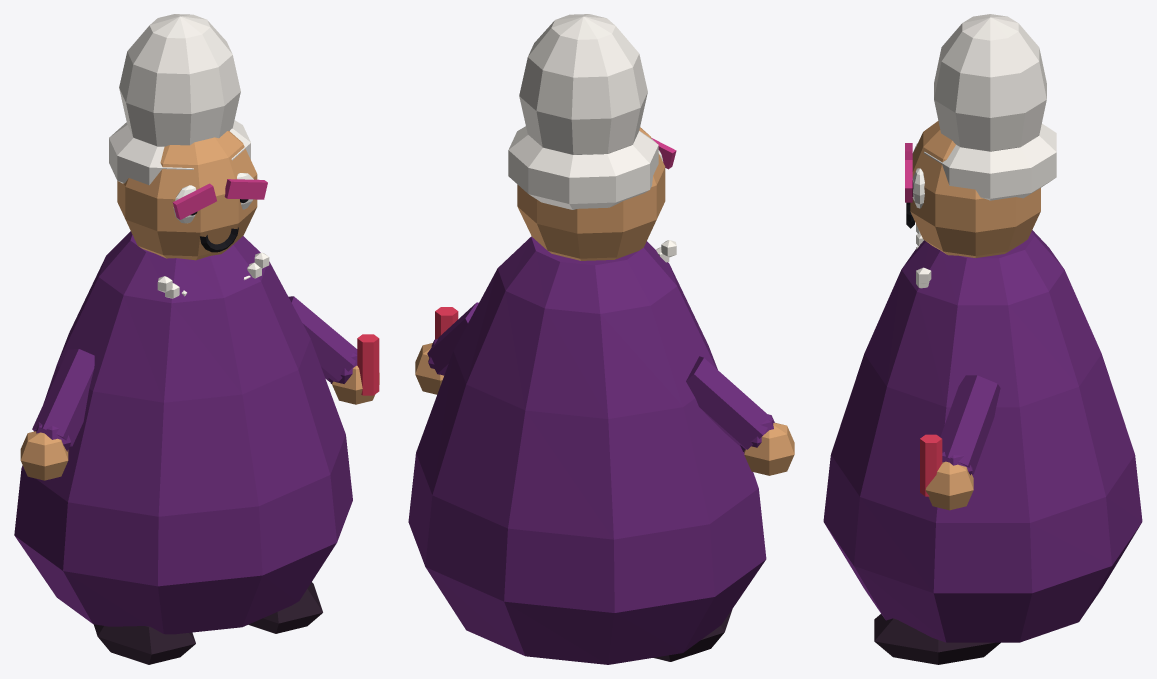
Rendered from npc_chela.glb.
3 renders of one model, left to right at view 1: azimuth 30°, elevation 25°; view 2: azimuth 150°, elevation 25°; view 3: azimuth 270°, elevation 25°, orthographic. The views are drawn at different scales.
Parts seen in each view (by area): view 1: body_chela_suit, head_hair_white, head_skin_arena, arms_chela_suit, legs_chela_shoes, arms_skin_arena, face_cat_eye (×2), props_marker; view 2: body_chela_suit, head_hair_white, head_skin_arena, arms_chela_suit, arms_skin_arena, legs_chela_shoes; view 3: body_chela_suit, head_hair_white, head_skin_arena, arms_chela_suit, legs_chela_shoes, arms_skin_arena, props_marker.
Part boxes in pixels (x1,y1,x2,y2): body_chela_suit: (14,231,352,634); head_hair_white: (109,14,250,185); head_skin_arena: (117,131,257,260); arms_chela_suit: (32,296,357,451); legs_chela_shoes: (93,582,322,664); arms_skin_arena: (20,365,379,480); face_cat_eye (×2): (172,179,267,219); props_marker: (357,334,379,395); body_chela_suit: (408,236,766,664); head_hair_white: (508,14,658,209); head_skin_arena: (517,127,665,260); arms_chela_suit: (427,302,774,451); arms_skin_arena: (415,343,794,475); legs_chela_shoes: (653,609,732,661); body_chela_suit: (823,230,1142,642); head_hair_white: (924,14,1056,200); head_skin_arena: (910,121,1040,257); arms_chela_suit: (940,375,1000,475); legs_chela_shoes: (874,614,1000,664); arms_skin_arena: (925,461,973,510); props_marker: (920,434,942,496).
Size of the model in its own units: 1.13 by 1.81 by 0.86.
